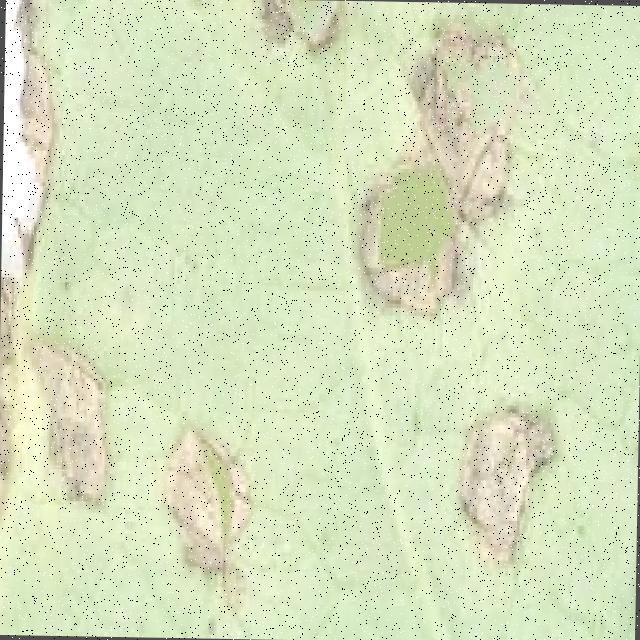Septoria_Blight: (331, 8, 605, 583)
